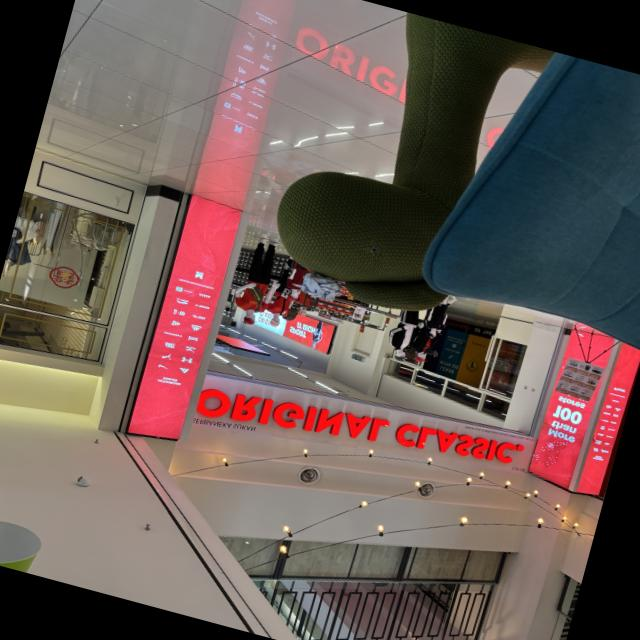crumpled_paper: (296, 268, 346, 306)
